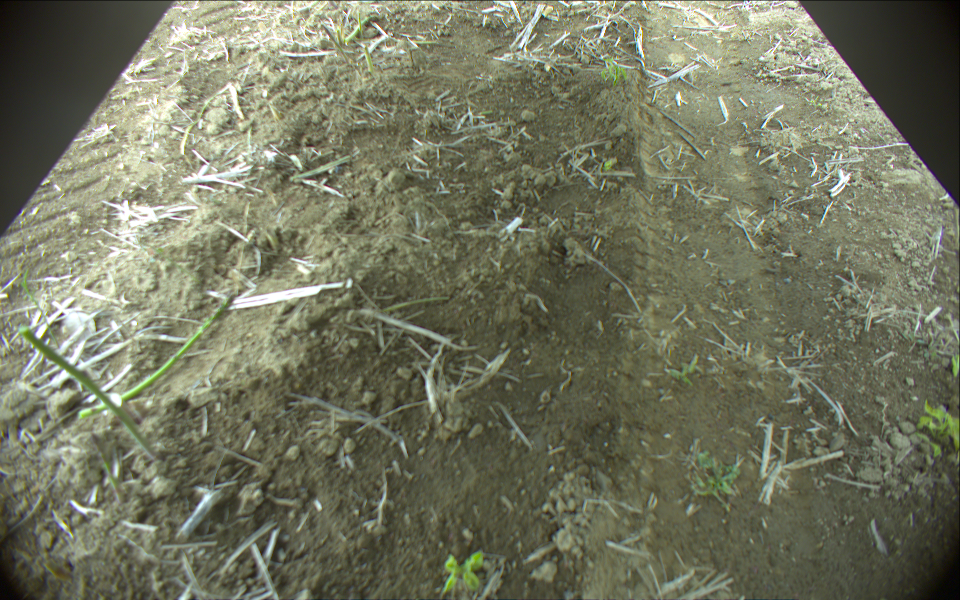aspa: (77, 295, 238, 417), (22, 329, 154, 458), (89, 432, 121, 500), (346, 10, 381, 45), (362, 47, 374, 72)
